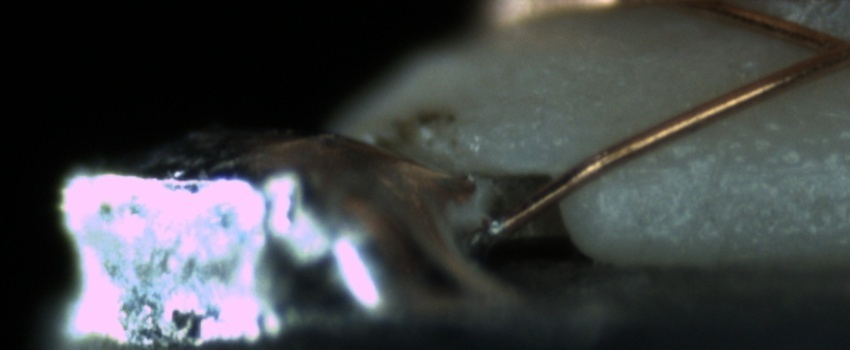CL: (796, 18, 849, 75)
